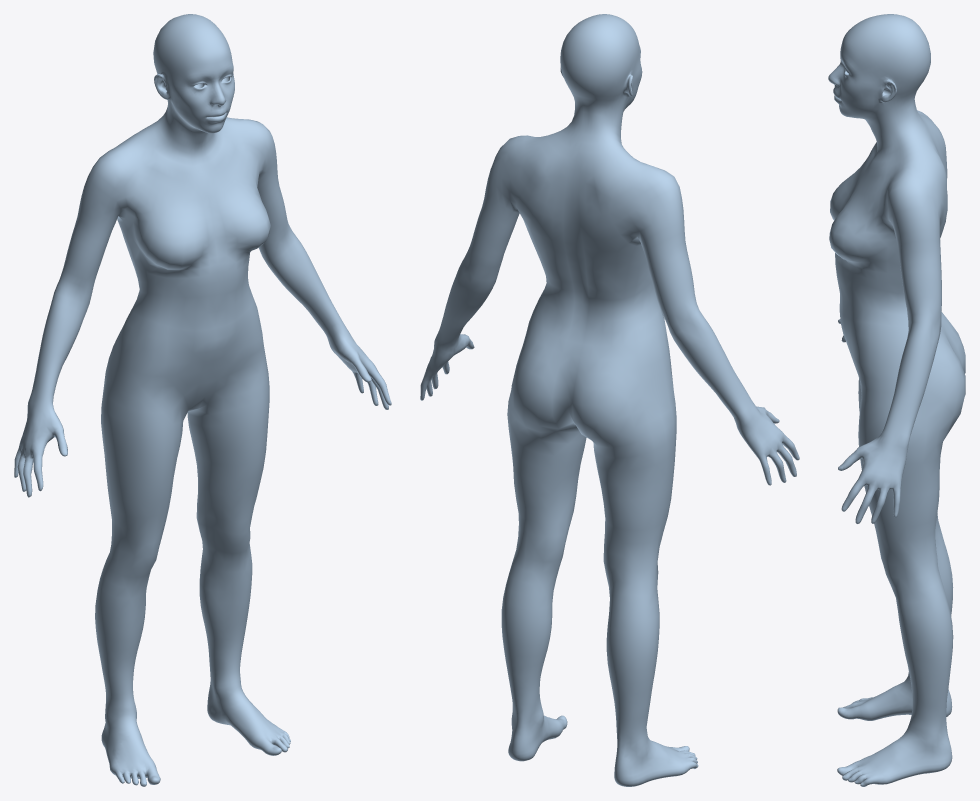
File: fitmind-current-body.glb
The picture shows the model from 3 angles, left to right: view 1: azimuth 30°, elevation 25°; view 2: azimuth 150°, elevation 25°; view 3: azimuth 270°, elevation 25°; orthographic projection.
Visible parts, largest first — view 1: FitMind_CurrentBody_156cm; view 2: FitMind_CurrentBody_156cm; view 3: FitMind_CurrentBody_156cm.
Boxes of the visible parts, x1,y1,x2,y2 form: FitMind_CurrentBody_156cm: (14, 14, 391, 786); FitMind_CurrentBody_156cm: (420, 14, 799, 786); FitMind_CurrentBody_156cm: (828, 14, 965, 786).
Size of the model in its own units: 0.8015 by 1.56 by 0.2662.
